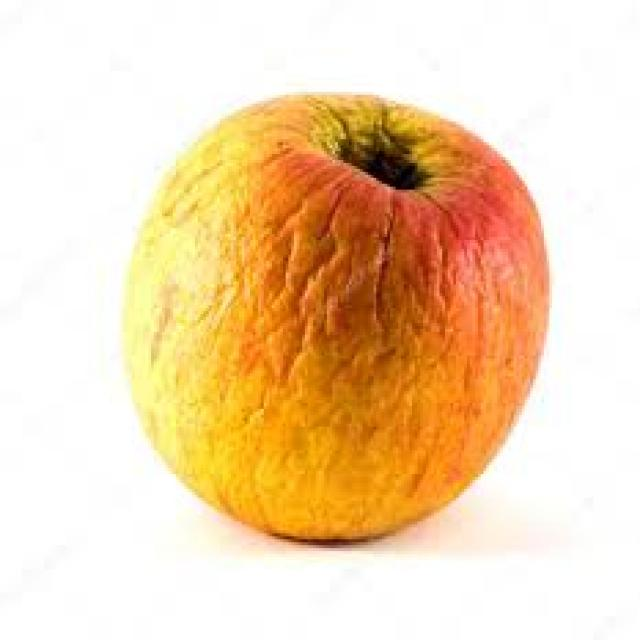overripe: (117, 83, 556, 548)
